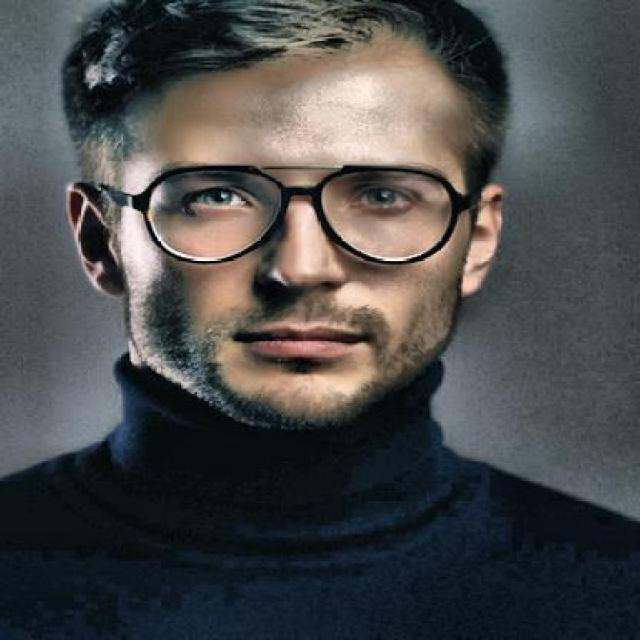Glasses: (94, 157, 481, 269)
